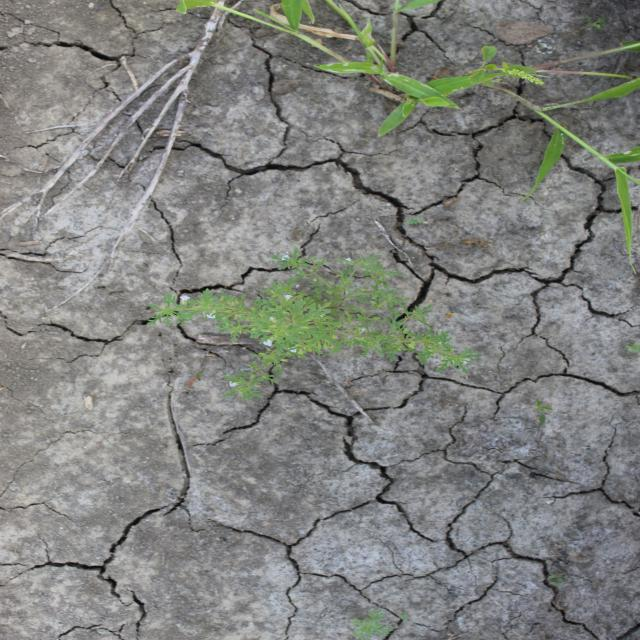Ragweed: (144, 246, 484, 404)
